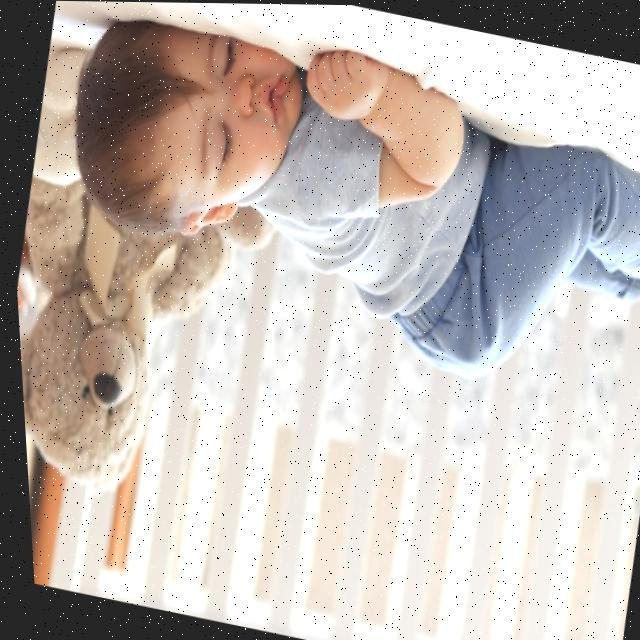eating-person: (27, 0, 640, 428)
